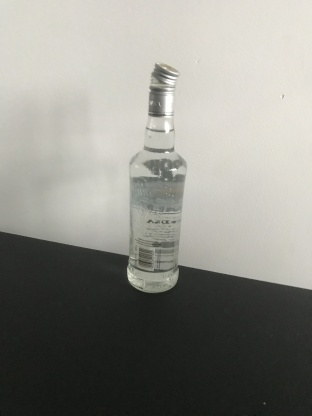nakretka: (147, 60, 180, 117)
